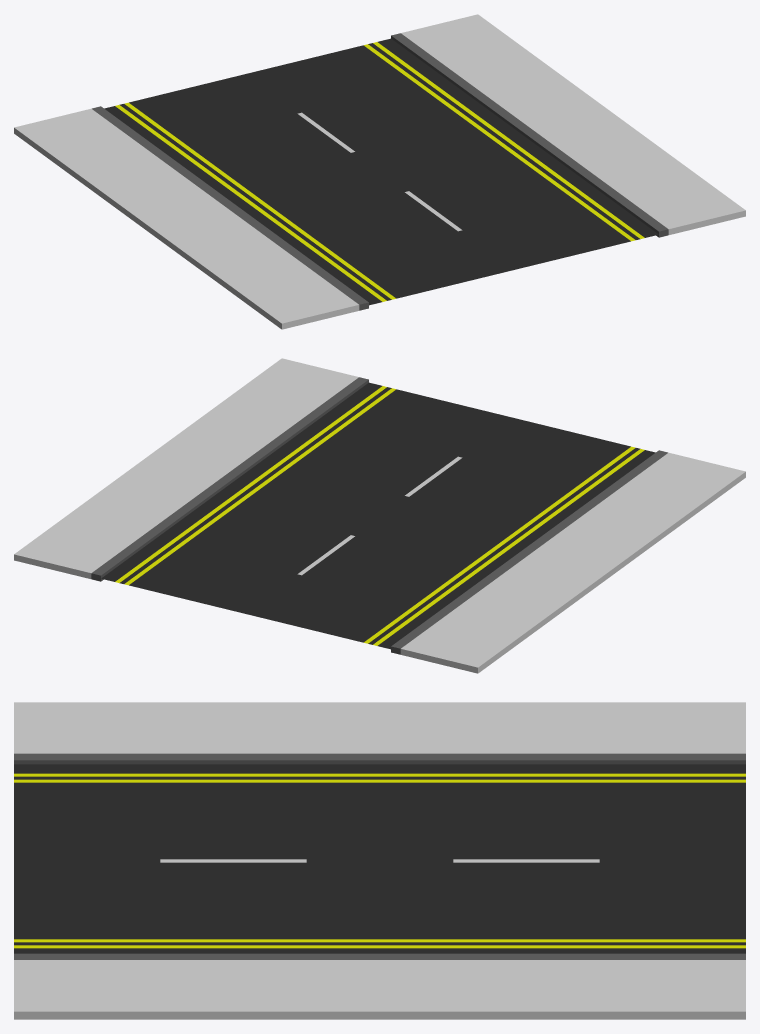
Rendered from m_e_s_road.fbx.
The picture shows the model from 3 angles, top to bottom: view 1: azimuth 30°, elevation 25°; view 2: azimuth 150°, elevation 25°; view 3: azimuth 270°, elevation 25°; orthographic projection. The views are drawn at different scales.
Parts seen in each view (by area): view 1: Cube, Cube.001, Cube.002; view 2: Cube, Cube.001, Cube.002; view 3: Cube, Cube.002, Cube.001.
Boxes of the visible parts, x1=… form: Cube: x1=104, y1=38, x2=658, y2=305; Cube.001: x1=14, y1=106, x2=368, y2=329; Cube.002: x1=391, y1=14, x2=745, y2=237; Cube: x1=101, y1=382, x2=655, y2=649; Cube.001: x1=391, y1=450, x2=745, y2=673; Cube.002: x1=14, y1=358, x2=368, y2=581; Cube: x1=14, y1=764, x2=745, y2=953; Cube.002: x1=14, y1=953, x2=745, y2=1019; Cube.001: x1=14, y1=702, x2=745, y2=764.
Bounding box in the file's own units: 1600 × 20 × 1600.
